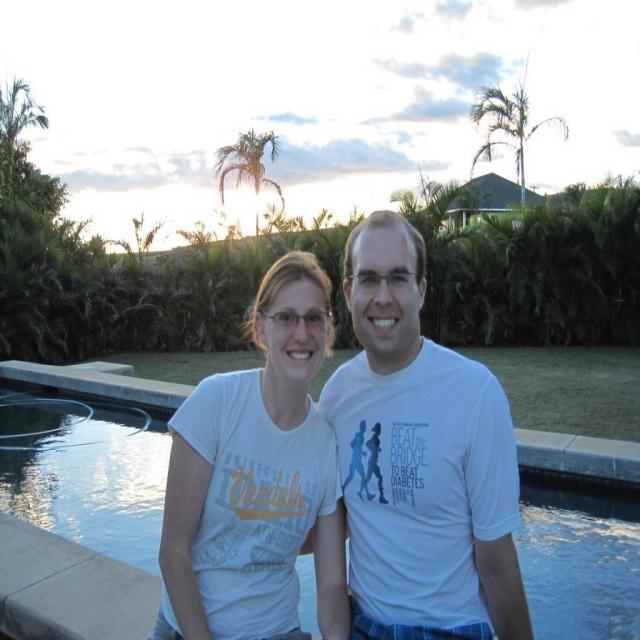Glasses: (262, 308, 333, 330), (344, 275, 422, 289)
